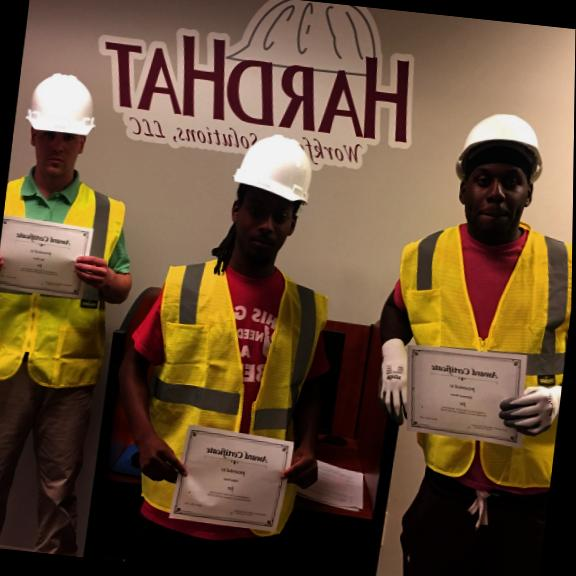safety_vest: (113, 250, 335, 530), (367, 204, 573, 499), (0, 159, 126, 414)
